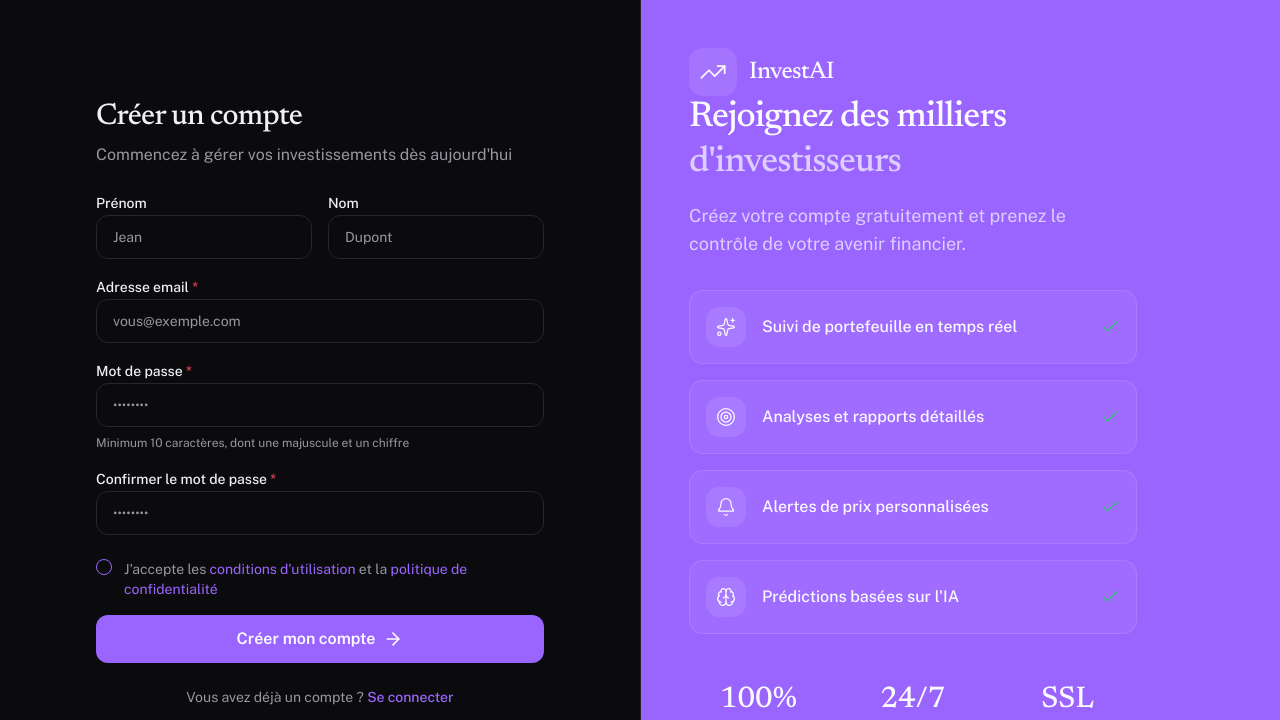
Test: identity — défauts corrigés › une inscription refusée affiche le message du serveur dans une seule notification
The width and height of the screenshot is (1280, 720).
Step 1. Type "jeanne@example.com" into the field with id "email" → {"x": 320, "y": 321}, box top-left (96, 299), bottom-right (544, 343)
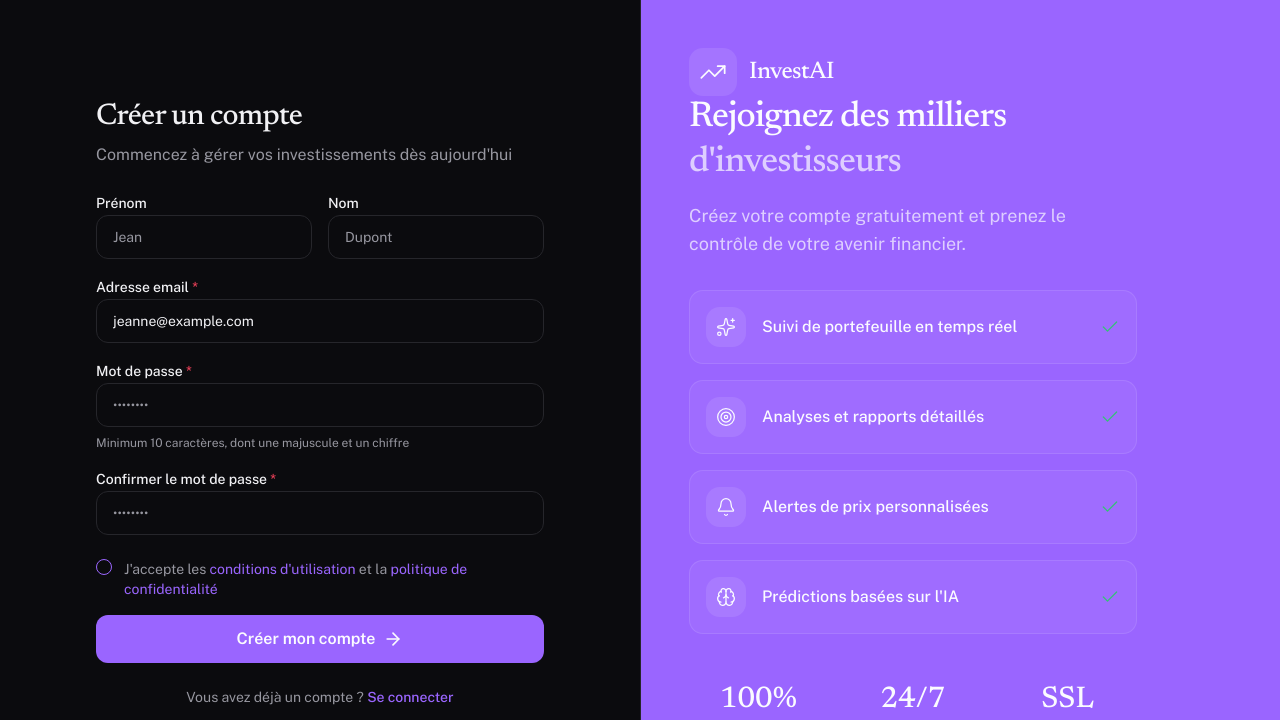
Step 2. Type "Solide-Passe42" into the password field labelled "Mot de passe *" → {"x": 320, "y": 405}, box top-left (96, 383), bottom-right (544, 427)
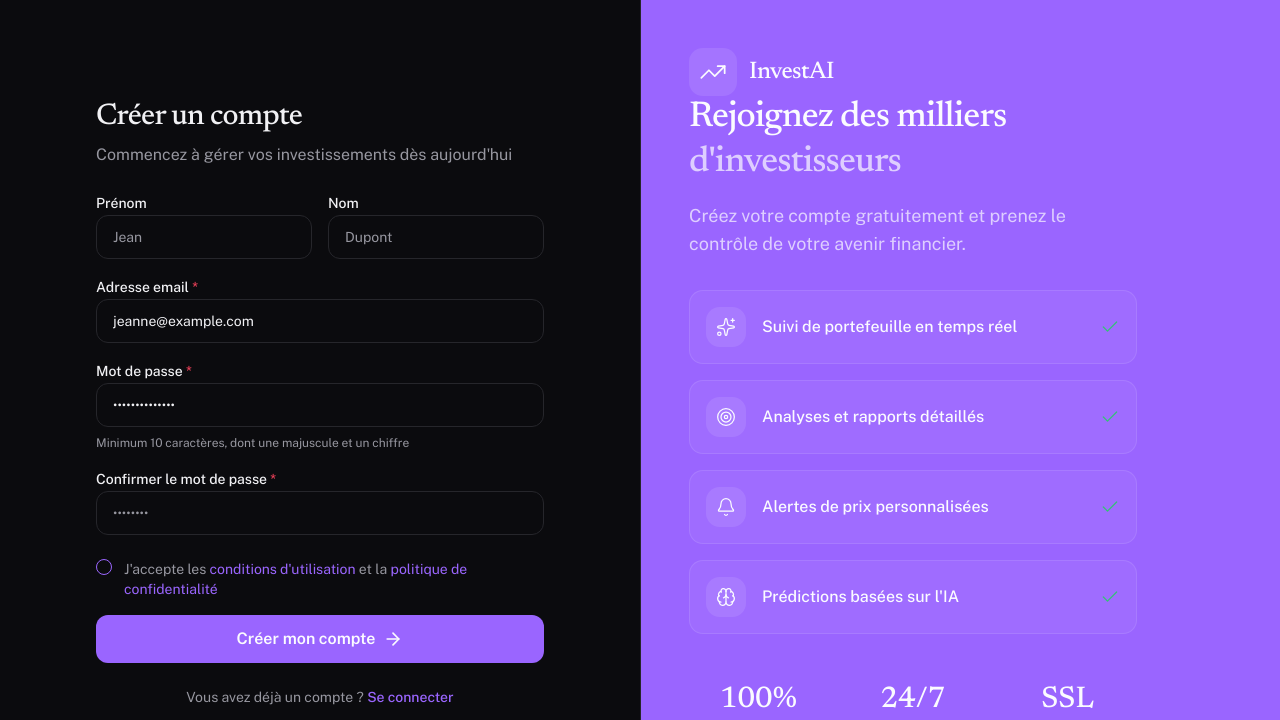
Step 3. Type "Solide-Passe42" into the password field with id "confirmPassword" → {"x": 320, "y": 513}, box top-left (96, 491), bottom-right (544, 535)
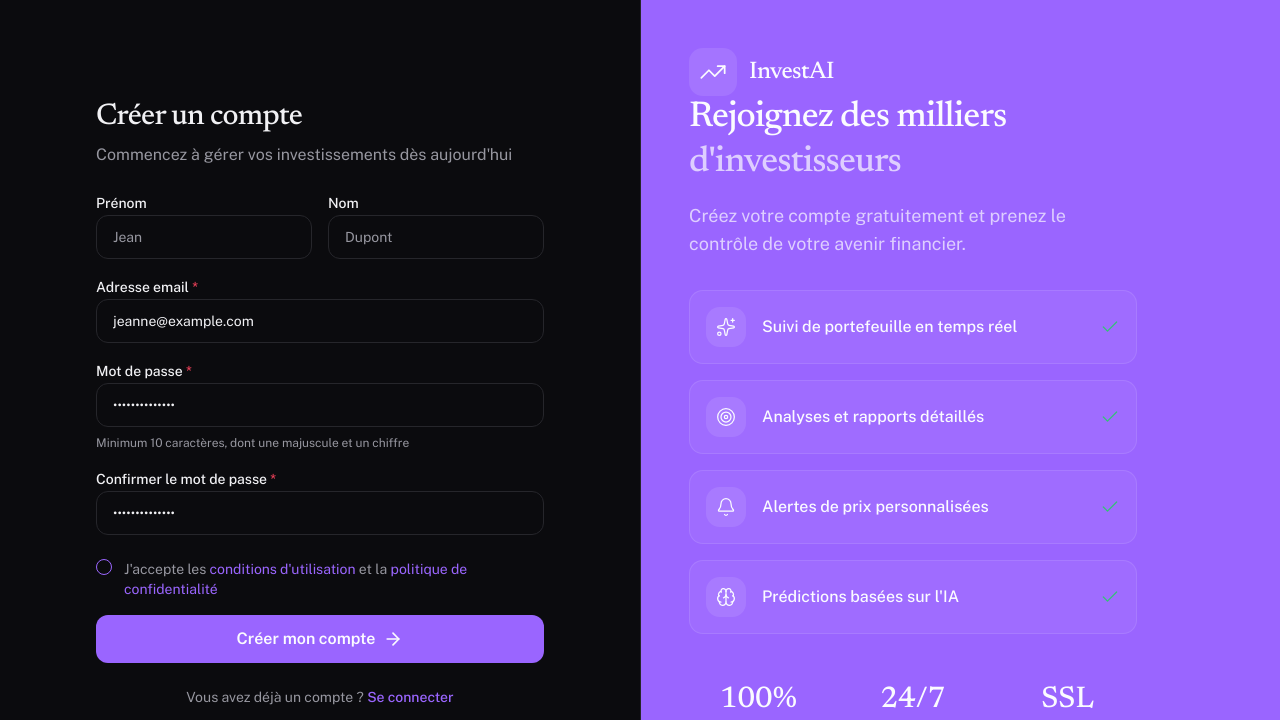
Step 4. Click the checkbox with id "acceptTerms" → {"x": 104, "y": 567}, box top-left (96, 559), bottom-right (112, 575)
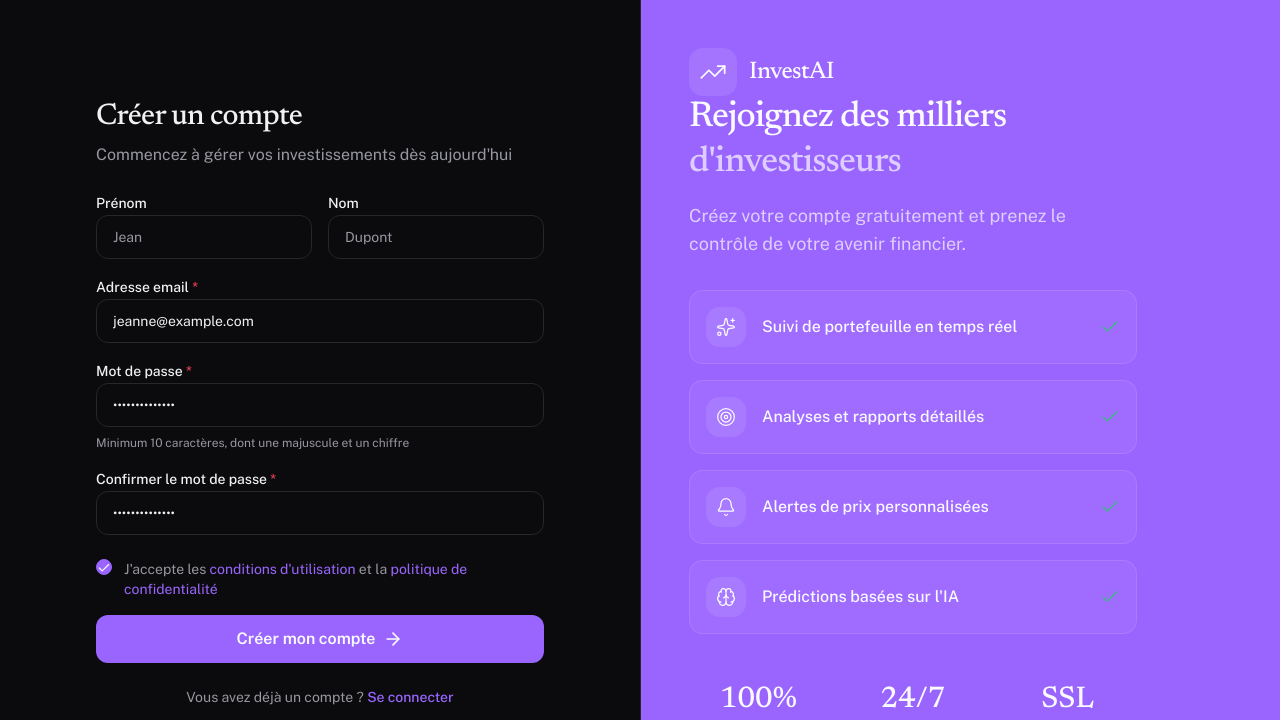
Step 5. Click the submit button → {"x": 320, "y": 639}, box top-left (96, 615), bottom-right (544, 663)
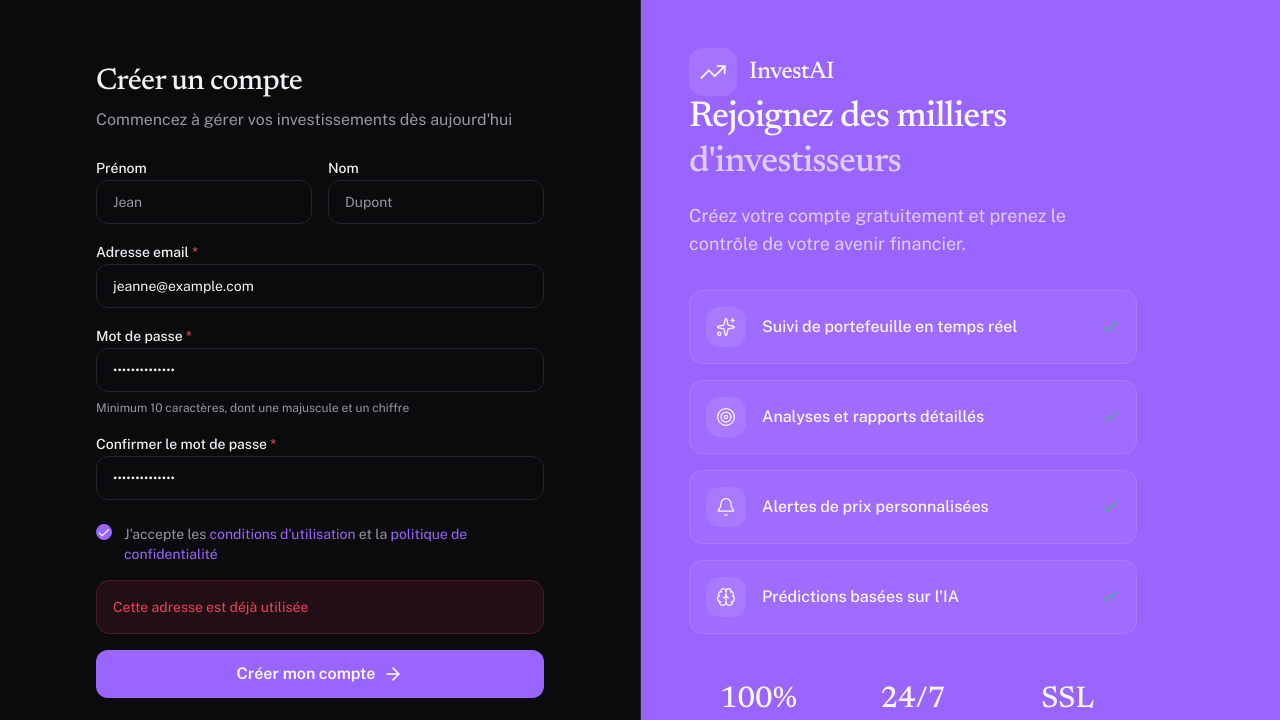
Result: the text "Cette adresse est déjà utilisée" is shown at top-left (96, 580), bottom-right (544, 634)
